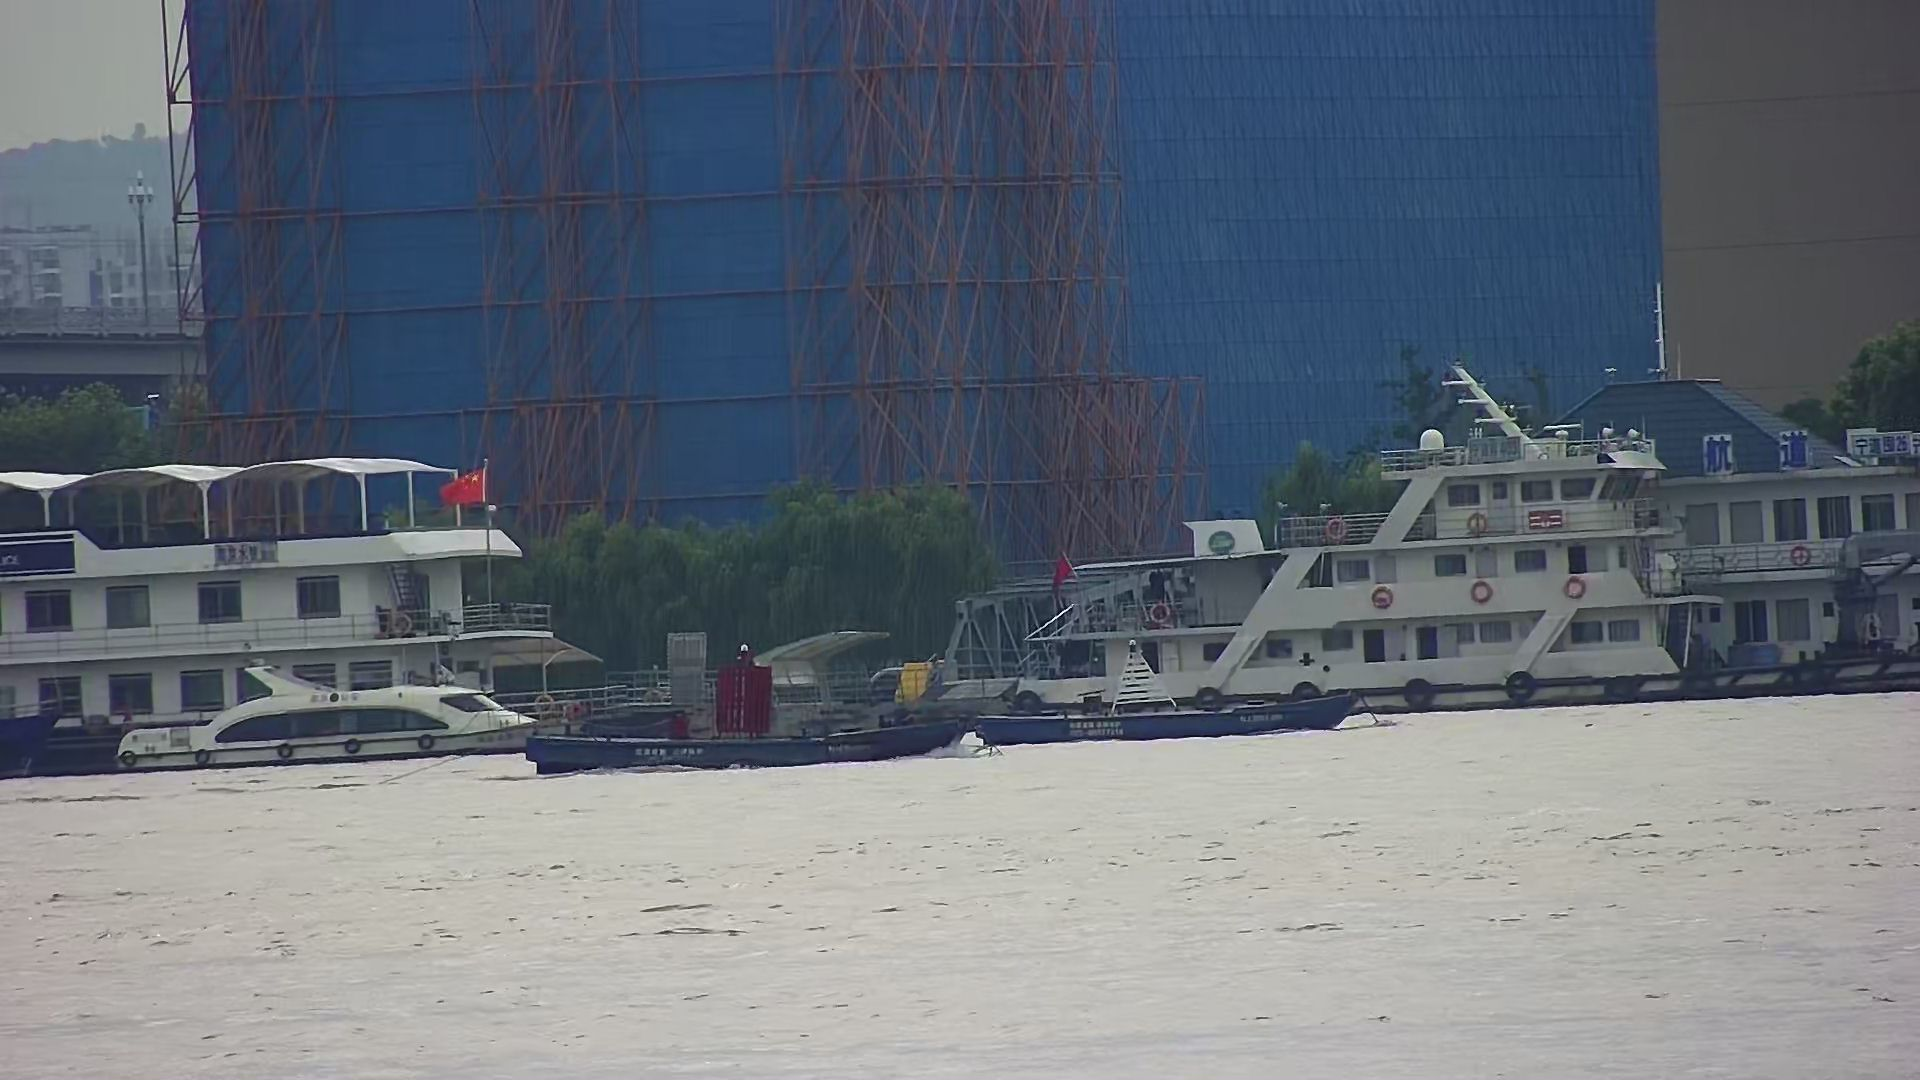boat: (109, 640, 563, 785), (963, 626, 1364, 760), (510, 688, 969, 777)
ship: (1004, 407, 1714, 733)
